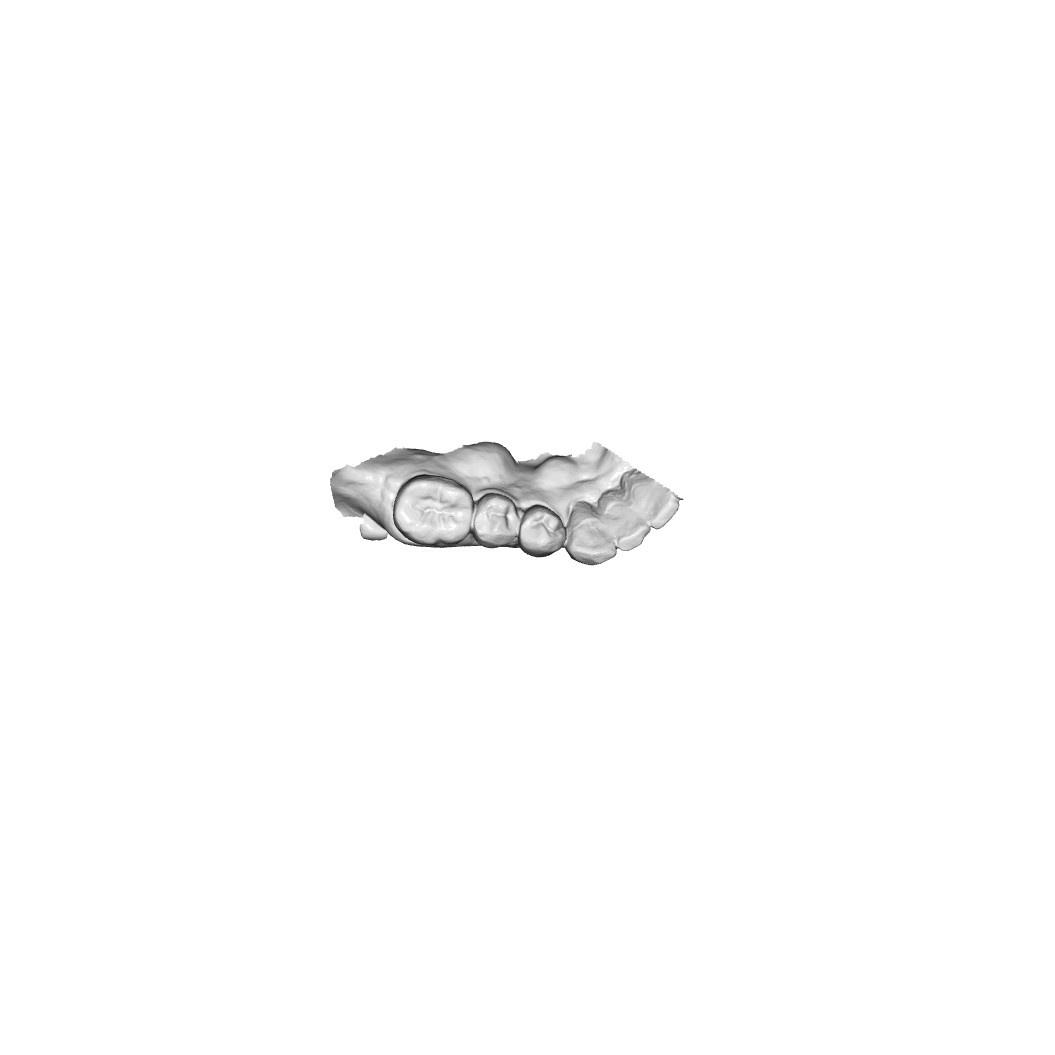canine: (566, 497, 616, 569)
incisor: (603, 494, 653, 551)
molar: (394, 469, 473, 545)
premolar: (473, 491, 524, 547), (521, 505, 569, 558)
